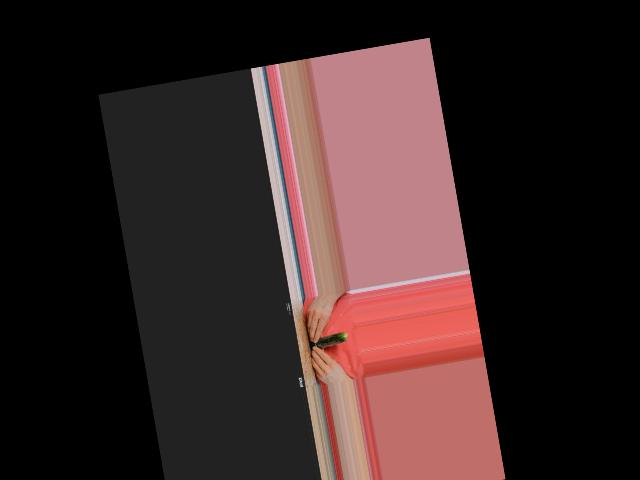cucumber: (308, 331, 348, 349)
